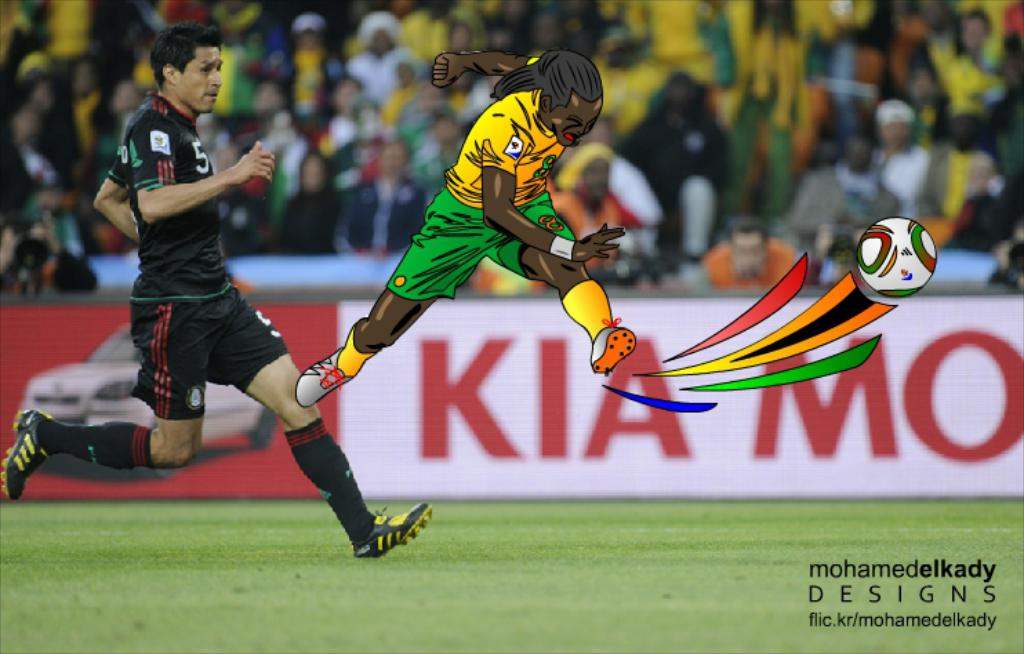Person: (0, 0, 1024, 284), (0, 26, 429, 558), (296, 49, 634, 396)
